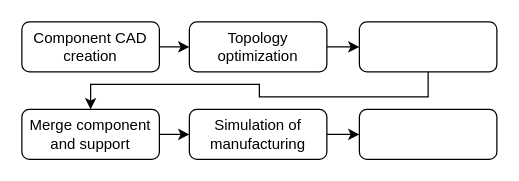
This 519x181 diagram has some shape labels left out. The centre of each missing label's shape, as x and y in pixels:
Data analysis: the point at 427,133
Support structure CAD creation: the point at 427,46
